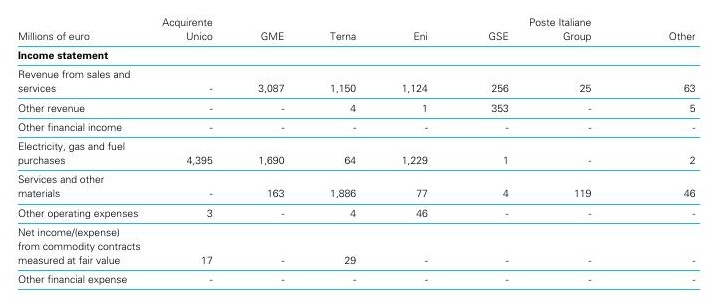table: (0, 0, 716, 305)
